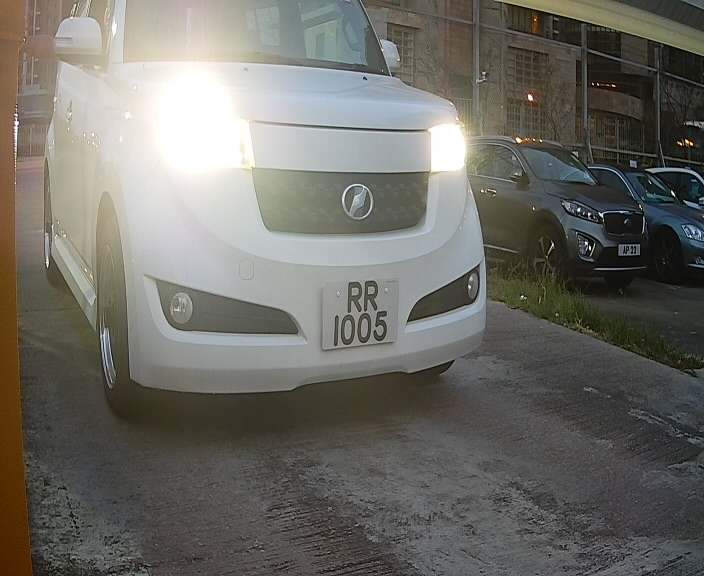Car: (16, 2, 544, 453)
License Plate: (302, 271, 415, 366)
